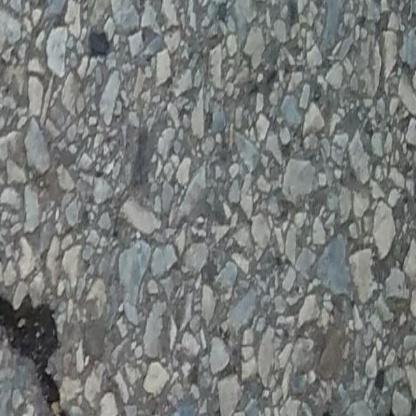Cracks: (0, 247, 83, 416), (371, 409, 416, 416), (306, 409, 349, 416)
